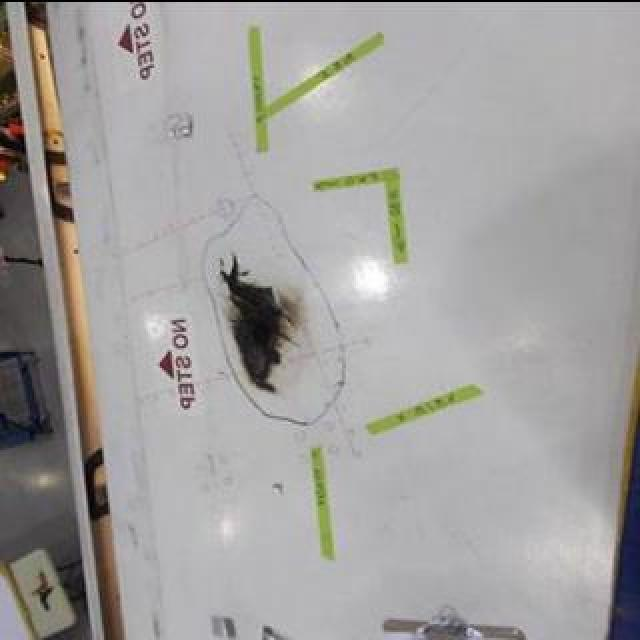crack: (219, 251, 299, 395)
